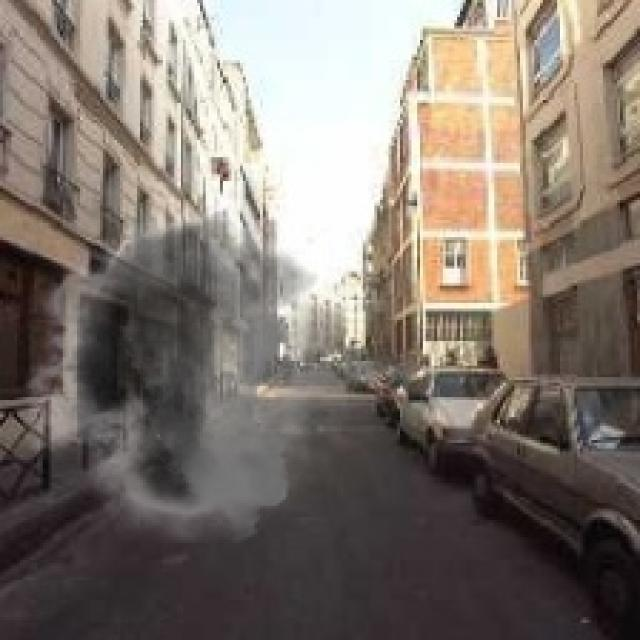smoke: (6, 180, 391, 543)
